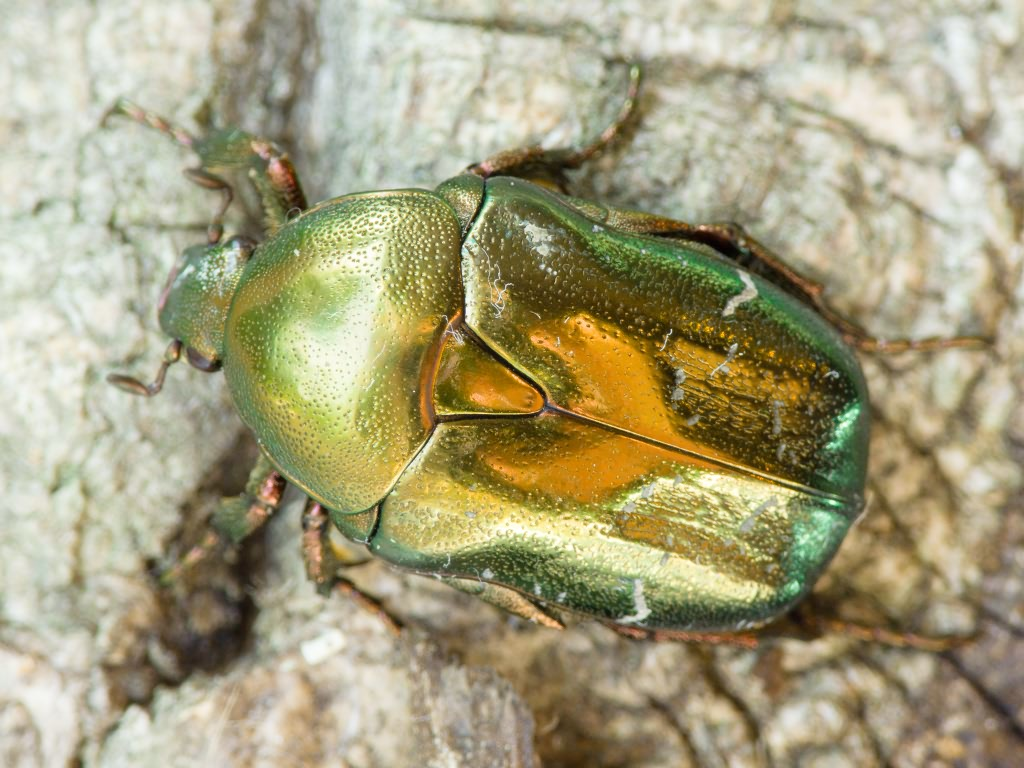Protaetia_fieberi: (87, 73, 993, 665)
